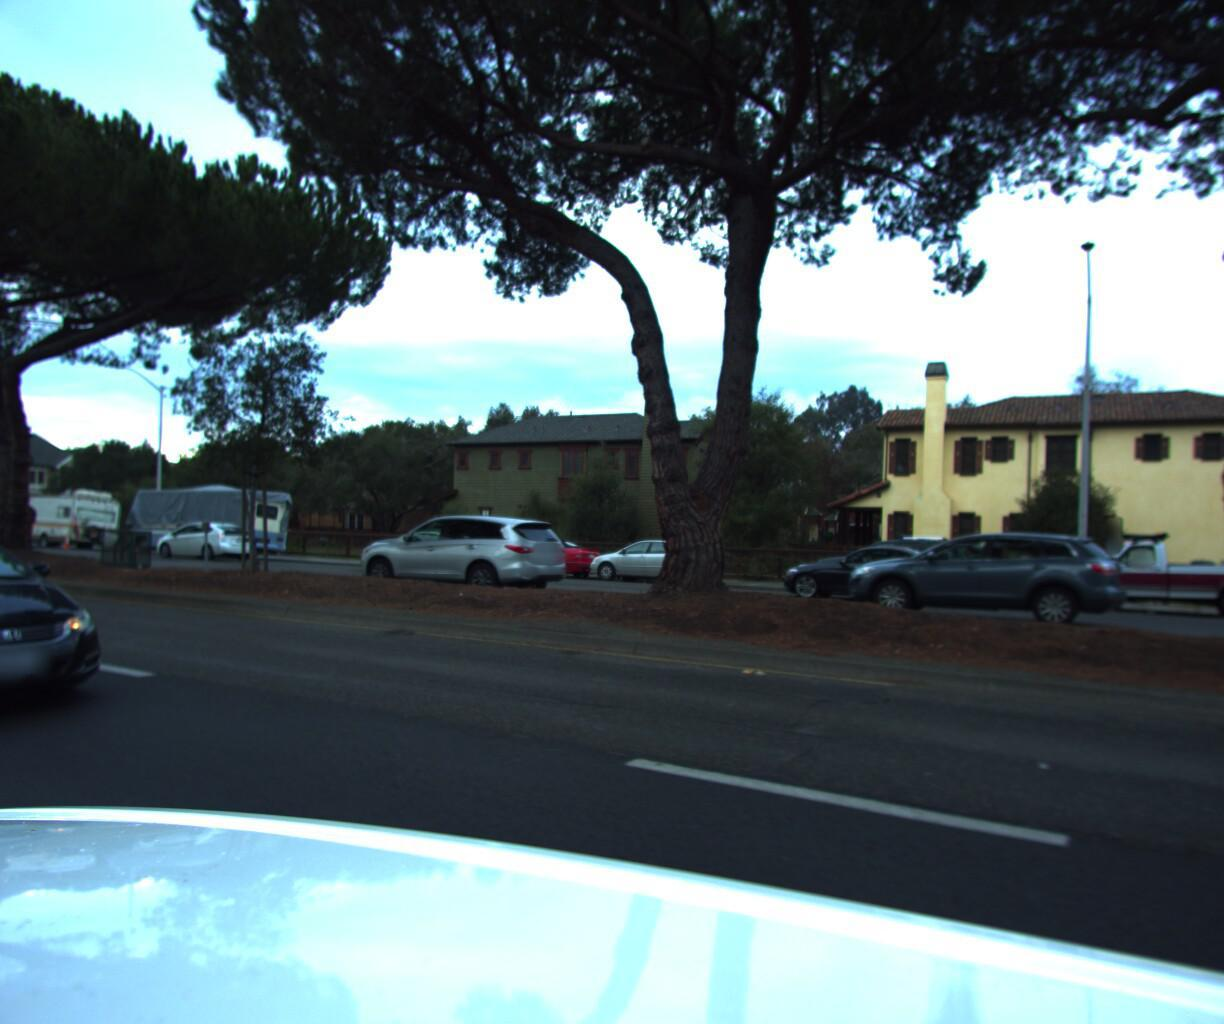bus: (118, 474, 300, 561)
car: (0, 514, 141, 754), (838, 517, 1138, 623), (338, 502, 588, 593), (1027, 521, 1224, 624), (779, 528, 969, 601), (800, 529, 978, 602), (580, 530, 728, 588), (469, 528, 611, 576), (147, 514, 261, 558)
other_vehicle: (0, 483, 123, 547), (0, 481, 51, 540)
